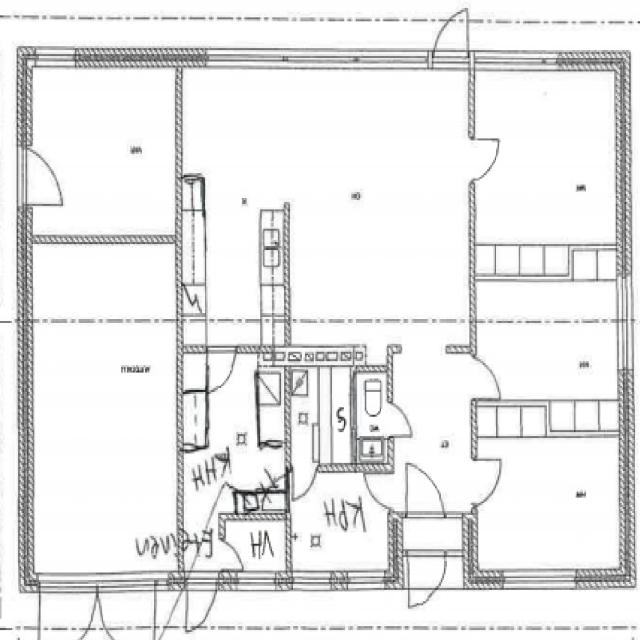door: (97, 567, 155, 640), (39, 567, 97, 640), (17, 143, 81, 204), (432, 2, 467, 67), (406, 462, 446, 518), (185, 567, 218, 630), (409, 549, 446, 604), (471, 460, 513, 506), (471, 356, 510, 399), (471, 139, 509, 179), (207, 346, 236, 392), (361, 476, 394, 511), (388, 403, 421, 437), (294, 467, 316, 502), (220, 538, 246, 564)
